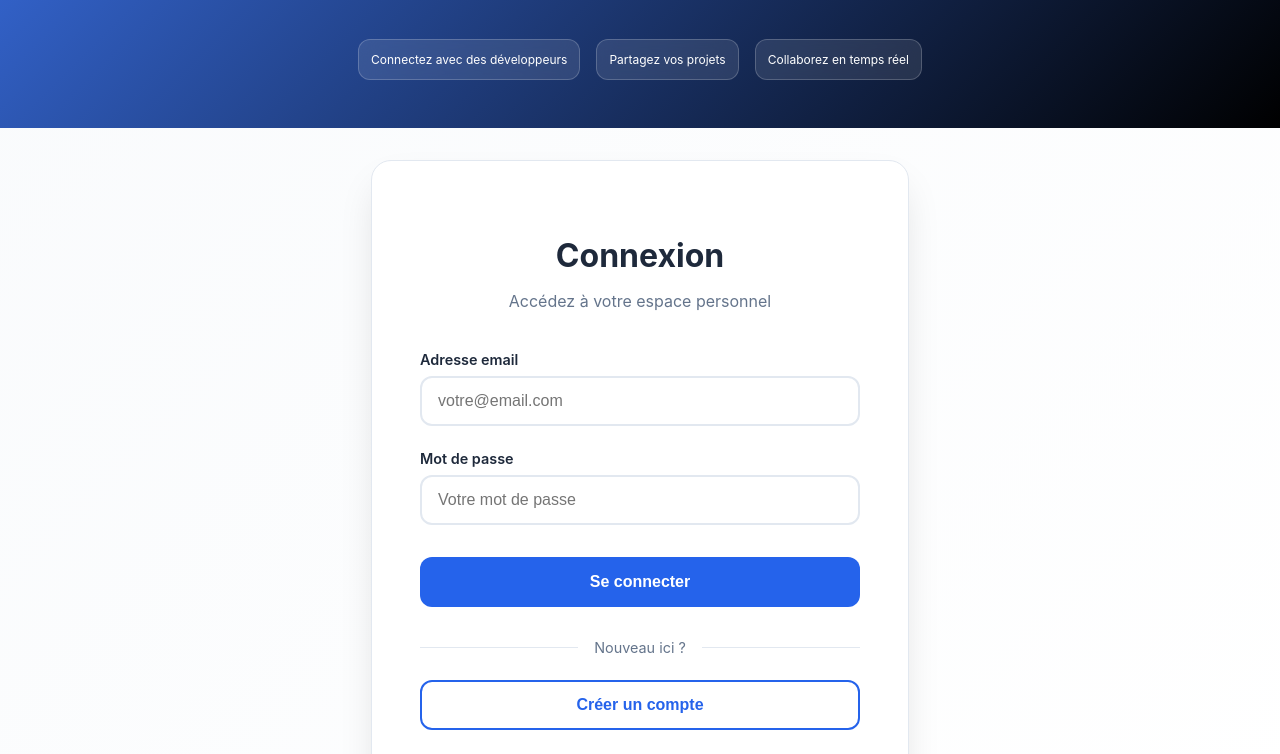
Test: Login Component › Validation › email="invalidemail" password="password123" → "Invalid email format"
(page scrolled)
Type "invalidemail" into the field labelled "Adresse email" at (640, 400), box [420,376,860,426]
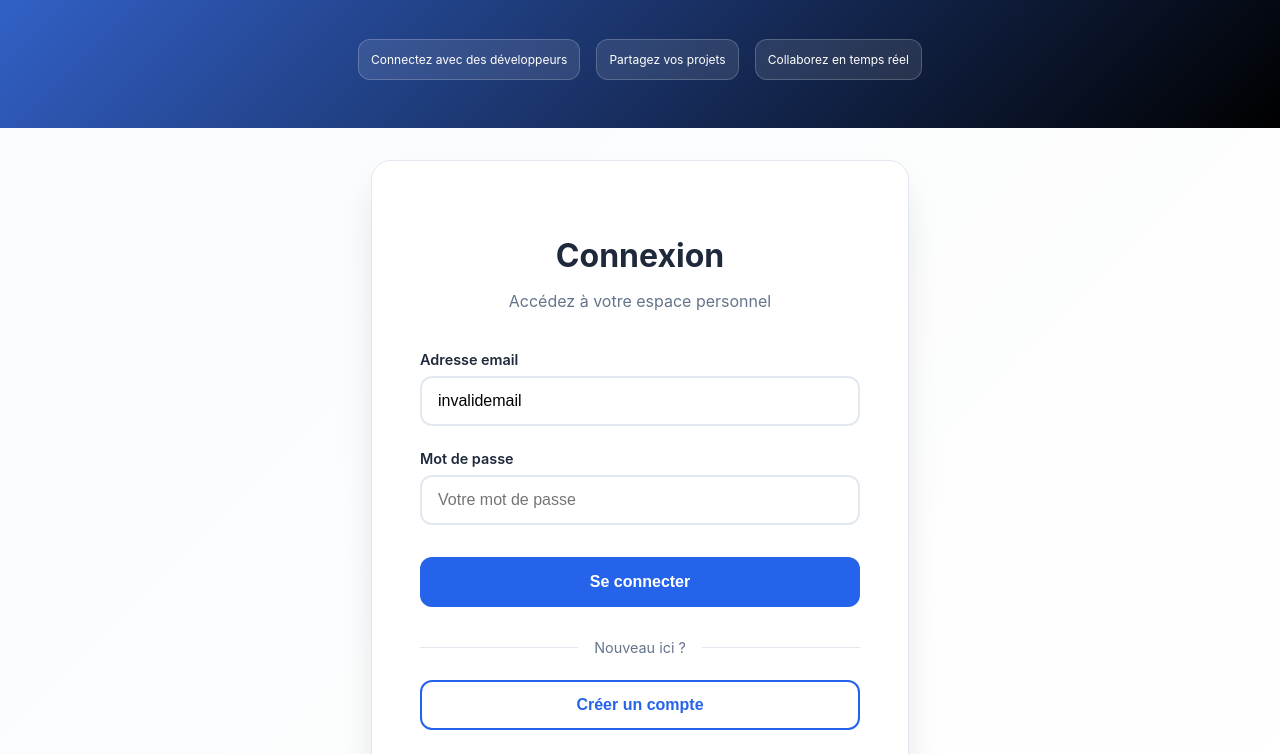
Type "password123" into the password field labelled "Mot de passe" at (640, 500), box [420,474,860,524]
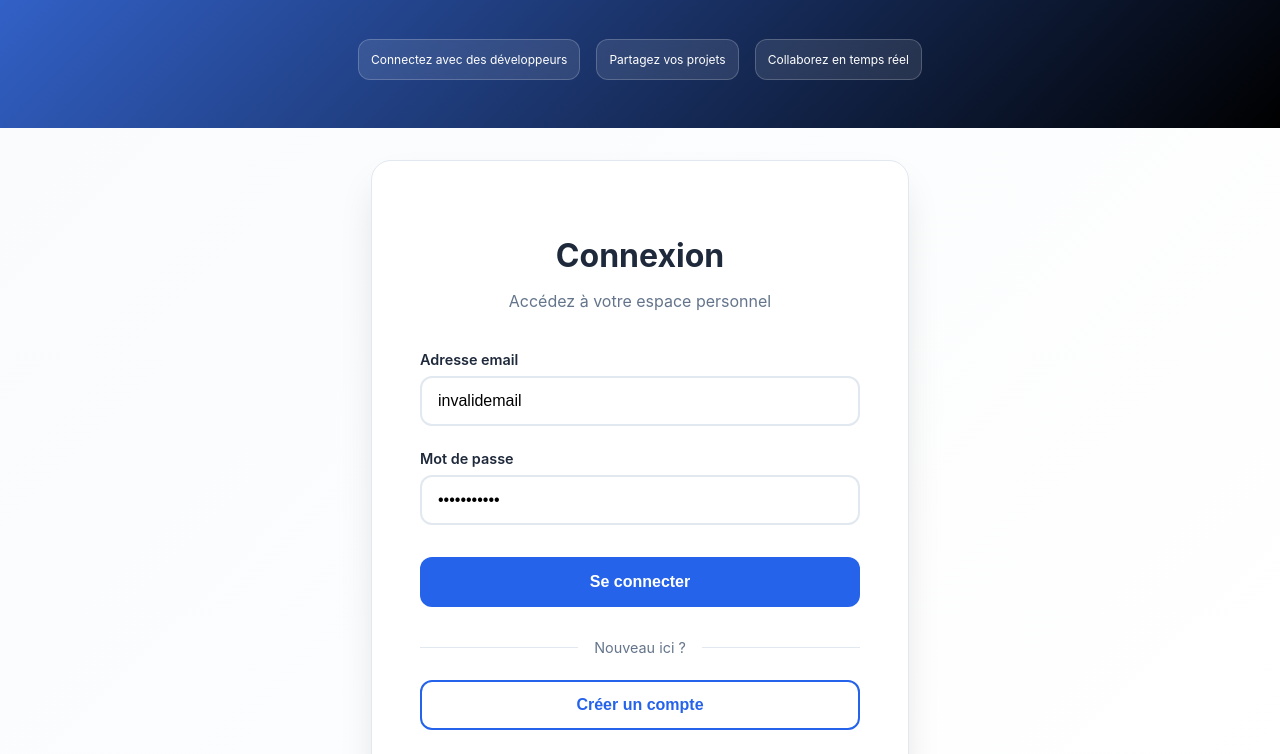
Click the button "Se connecter" at (640, 582), box [420,556,860,606]
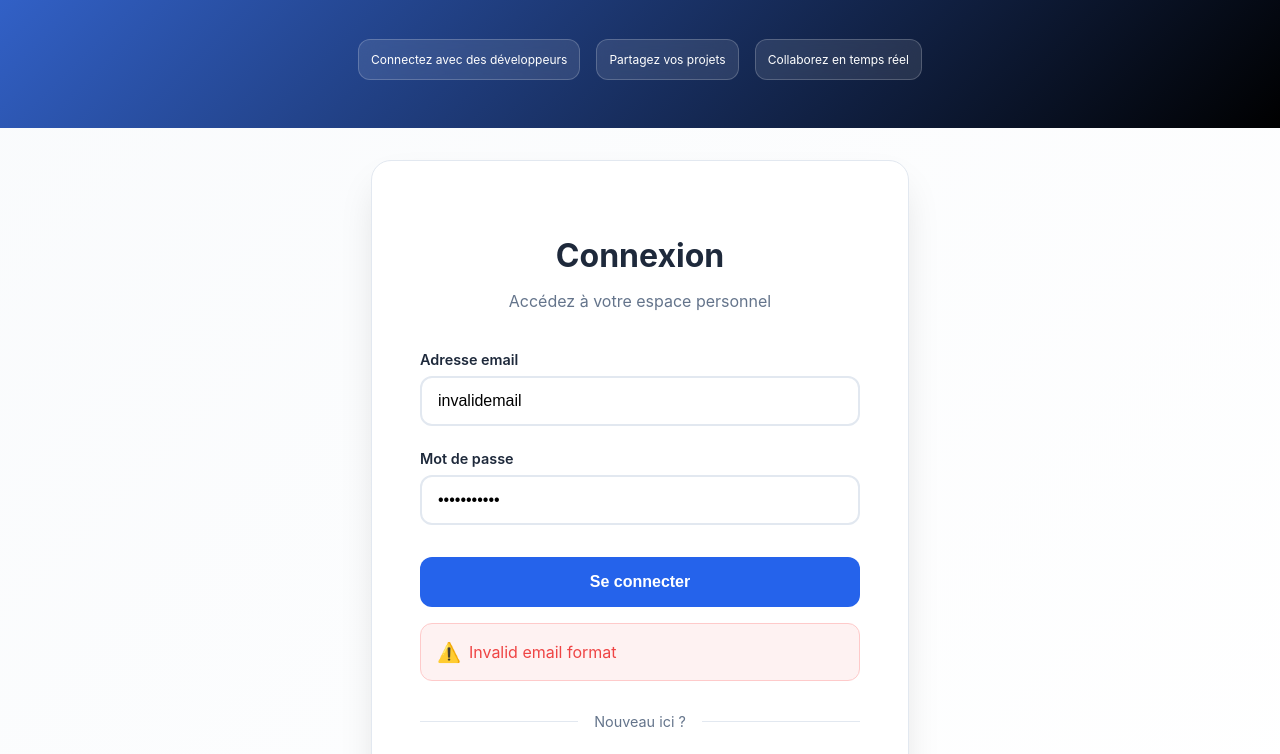
Check: the text "Invalid email format" is shown, box [469,642,617,662]
